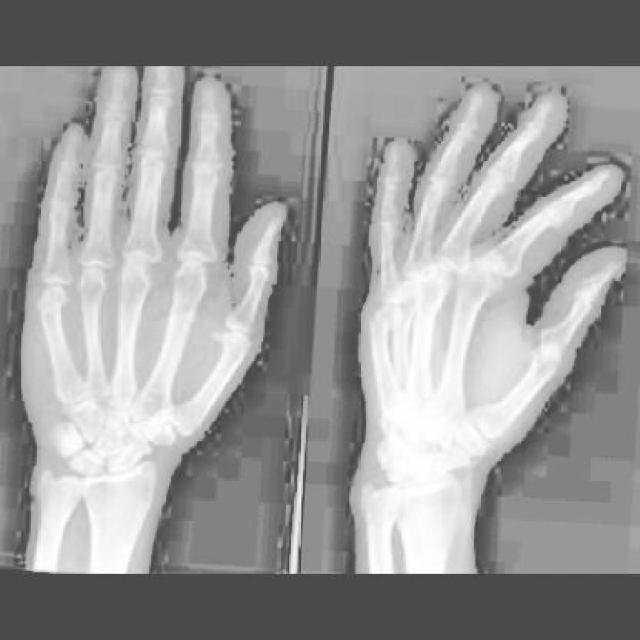Fracture: (32, 286, 66, 319), (369, 306, 400, 332)
